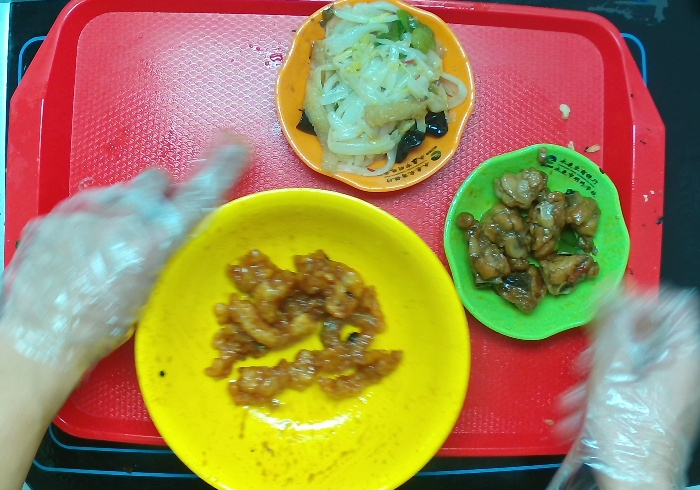YKMZ-Huang_Se_Tang_Wan: (129, 185, 474, 490)
YKMZ-Ju_Se_Ao_Bian_Wan: (274, 1, 477, 194)
YKMZ-Lv_Se_Ao_Bian_Wan: (442, 142, 634, 343)
